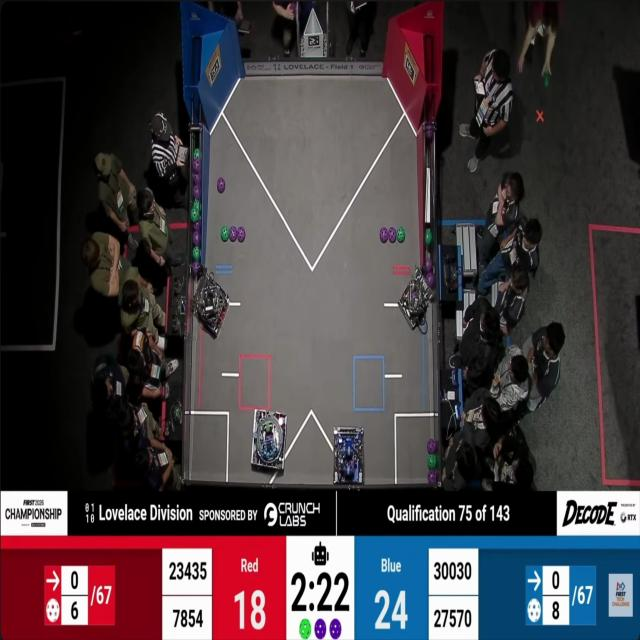artifact_green: (299, 619, 311, 640), (191, 261, 202, 277), (191, 201, 199, 222), (192, 231, 201, 246), (428, 439, 437, 454), (221, 226, 229, 242), (424, 229, 432, 245), (397, 227, 405, 243), (428, 455, 437, 469), (192, 200, 201, 213), (193, 247, 201, 261), (544, 74, 550, 88), (193, 148, 200, 158)
artifact_purple: (315, 619, 326, 639), (330, 619, 341, 639), (191, 260, 202, 276), (426, 272, 435, 288), (425, 125, 434, 141), (428, 470, 438, 484), (428, 439, 437, 454), (289, 2, 297, 18), (425, 258, 434, 272), (380, 228, 388, 243), (193, 158, 201, 173), (193, 183, 200, 199), (192, 221, 201, 233), (193, 231, 200, 246), (230, 227, 237, 242), (389, 228, 396, 243), (218, 178, 225, 193), (238, 227, 245, 242), (193, 173, 201, 185), (412, 292, 418, 299)
